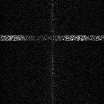wifi: (1, 34, 104, 40)
